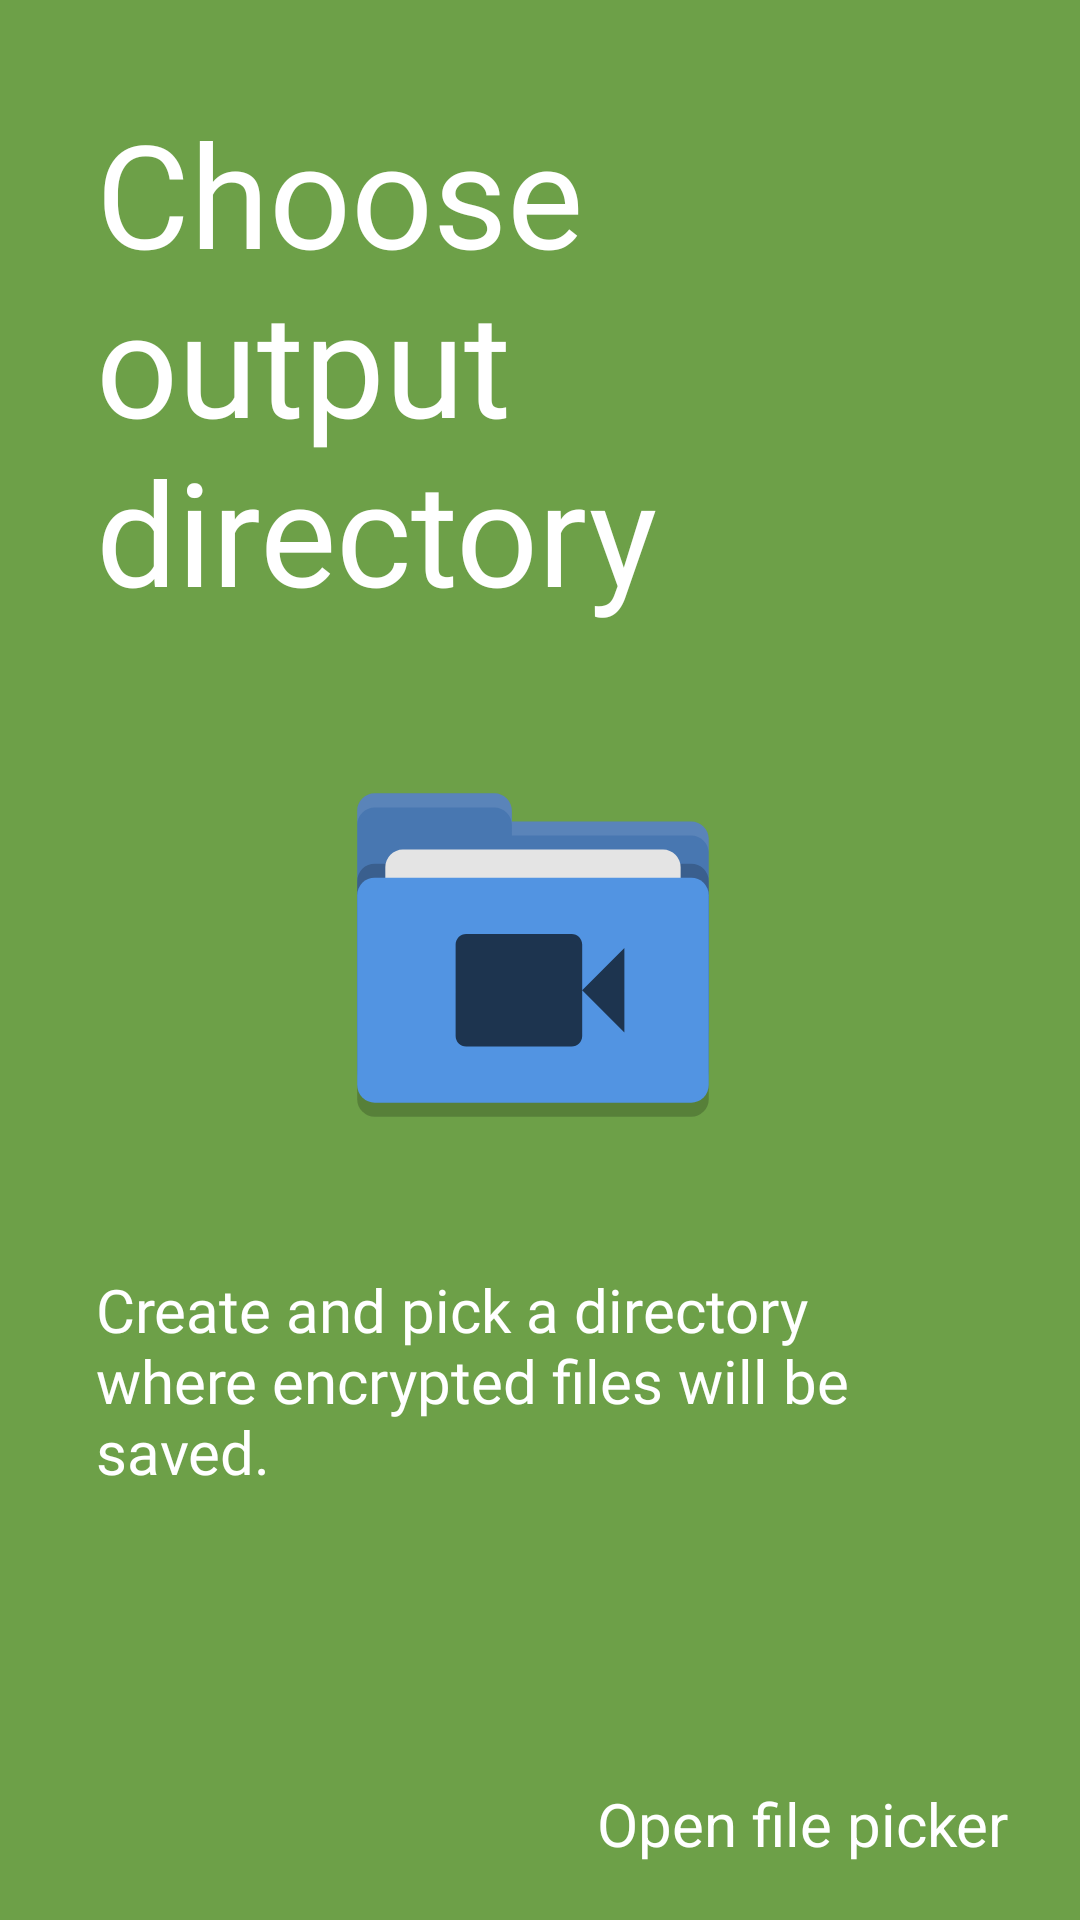

Locate icon controls on the screen. Image size 1080px×1920px, boxes as (x1, y1, x2, y2).
folder: (357, 793, 709, 1116)
